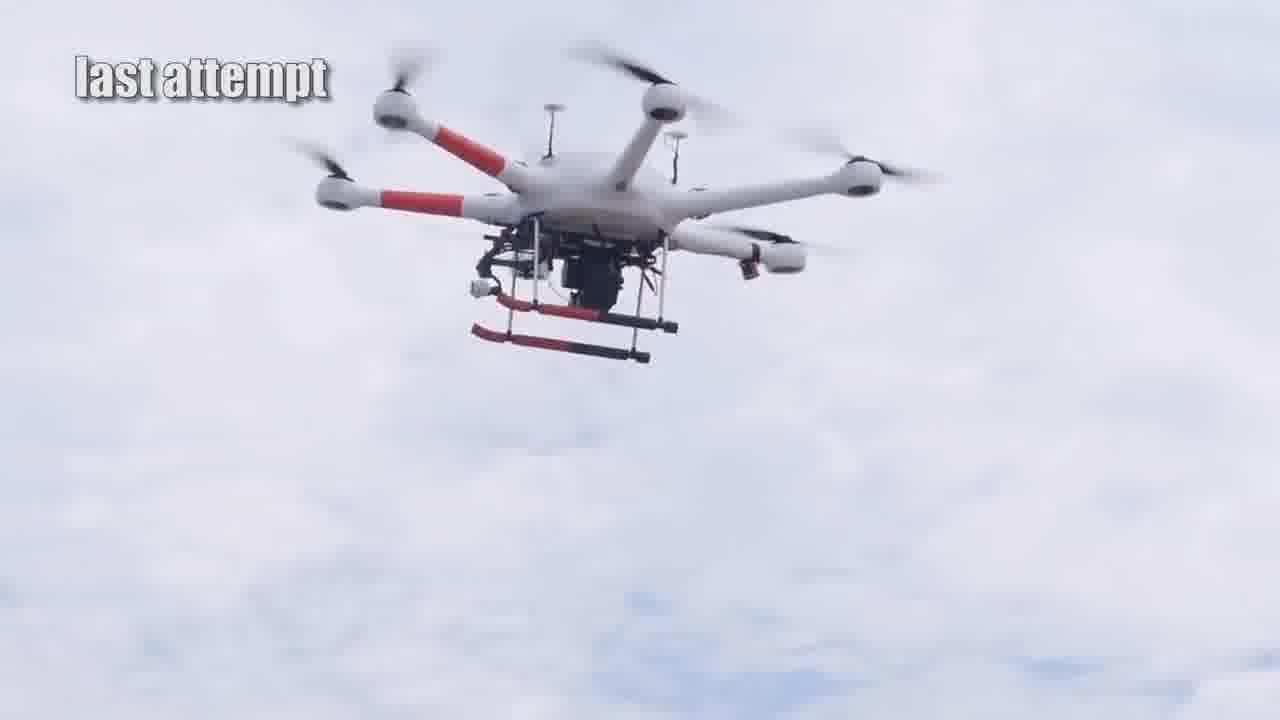drone: (335, 18, 915, 393)
